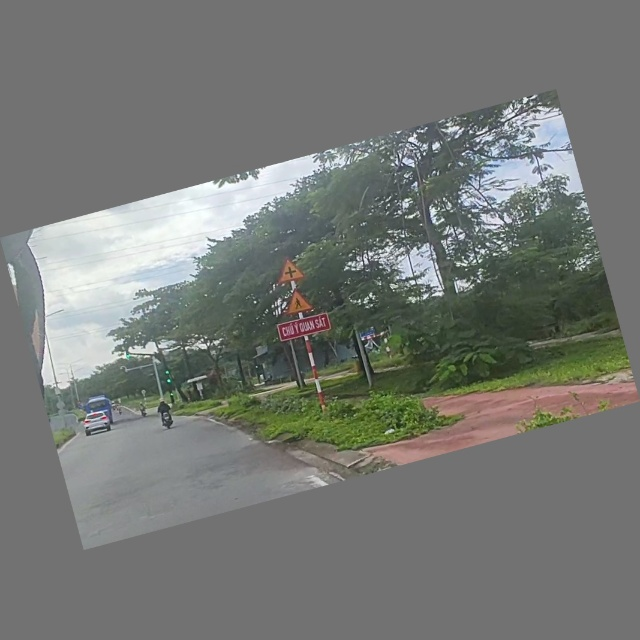W.205a: (273, 254, 309, 287)
W.224: (279, 285, 317, 319)
